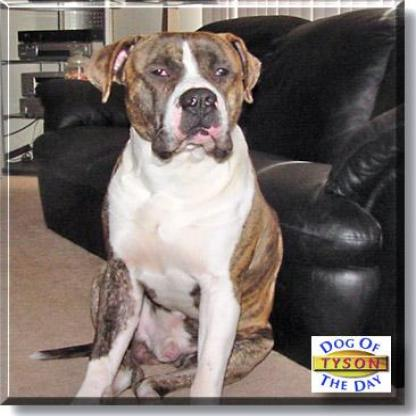boxer: (28, 29, 281, 397)
